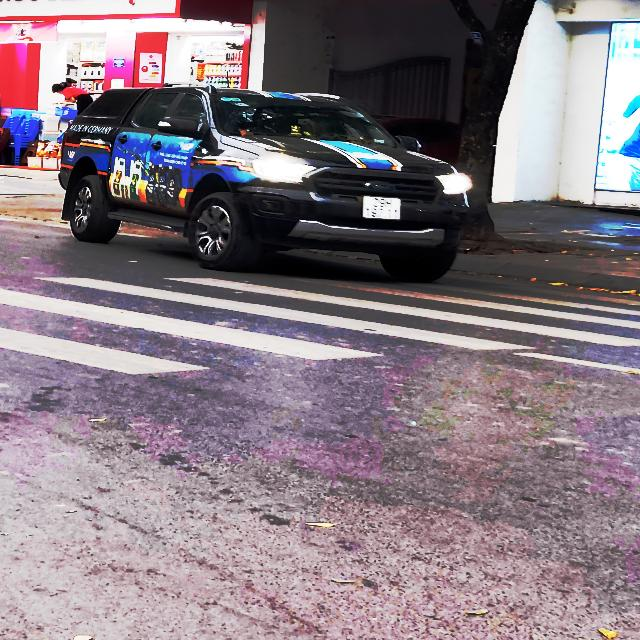license_plate: (362, 195, 403, 222)
